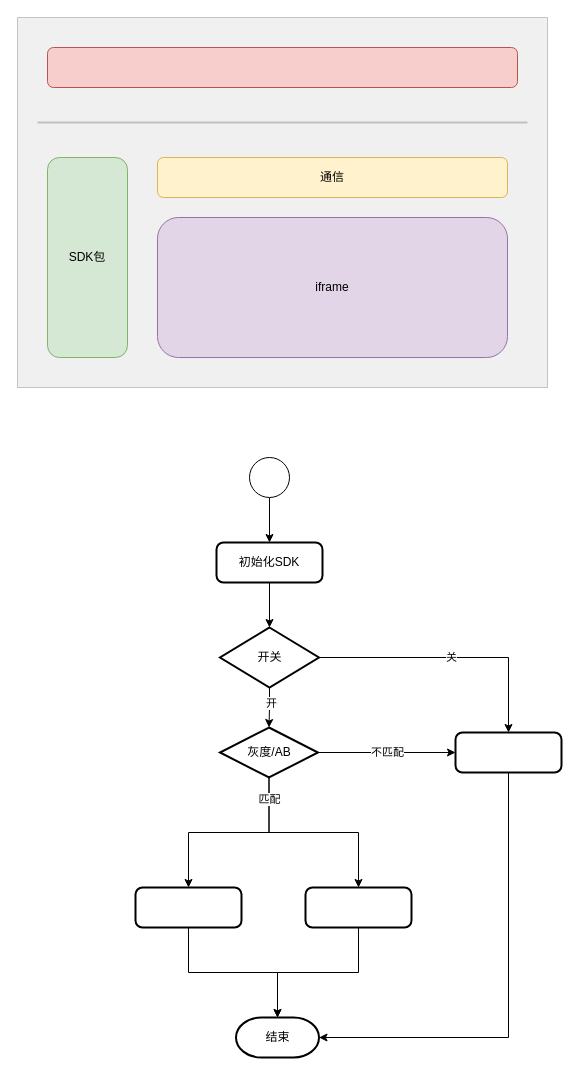
Some shapes in this 580 by 1076 pixel diagram are drawn without their labels. Here are the shapes that lost their labels. From the top down, the box of each, then its label:
(46, 46, 518, 88): 三方系统
(454, 731, 562, 773): 走local逻辑
(134, 886, 242, 928): A版本
(304, 886, 412, 928): B版本
